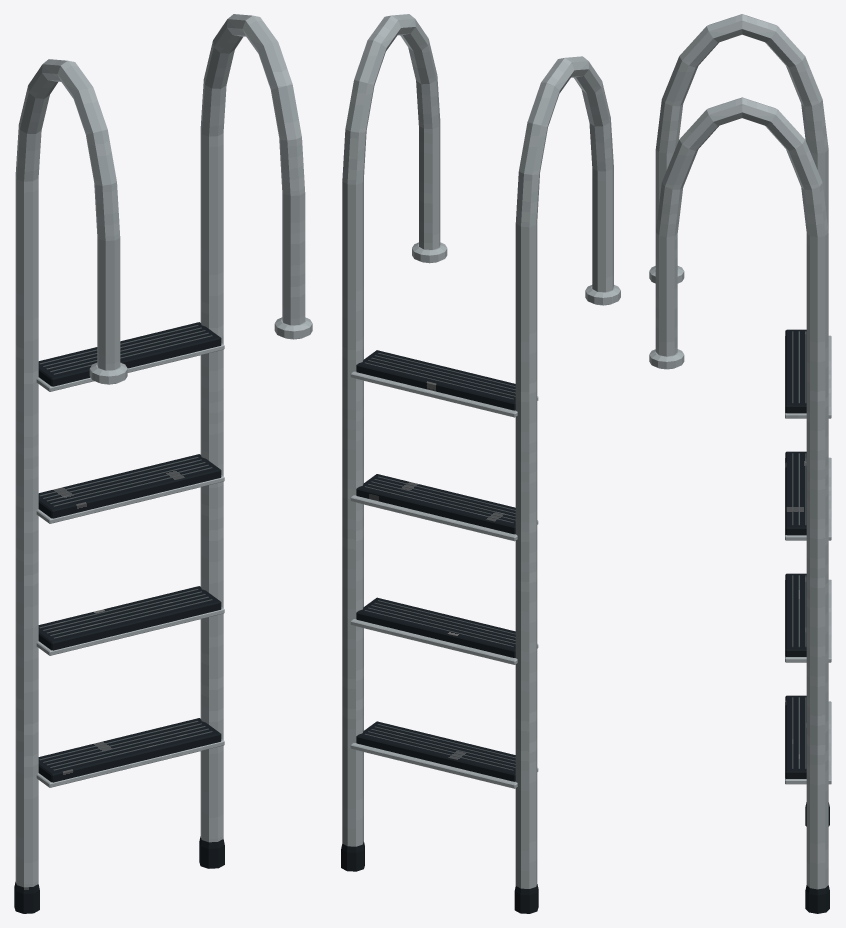
File: pool_ladder.glb
The picture shows the model from 3 angles, left to right: view 1: azimuth 30°, elevation 25°; view 2: azimuth 150°, elevation 25°; view 3: azimuth 270°, elevation 25°; orthographic projection. The views are drawn at different scales.
Visible parts, largest first — view 1: core_pool_ladder; view 2: core_pool_ladder; view 3: core_pool_ladder.
Part boxes in pixels (x1,y1,x2,y2): core_pool_ladder: (14, 14, 312, 913); core_pool_ladder: (341, 14, 620, 913); core_pool_ladder: (649, 14, 831, 913).
Bounding box in the file's own units: 0.57 × 2.19 × 0.4475.
3 materials, 3 textured.
